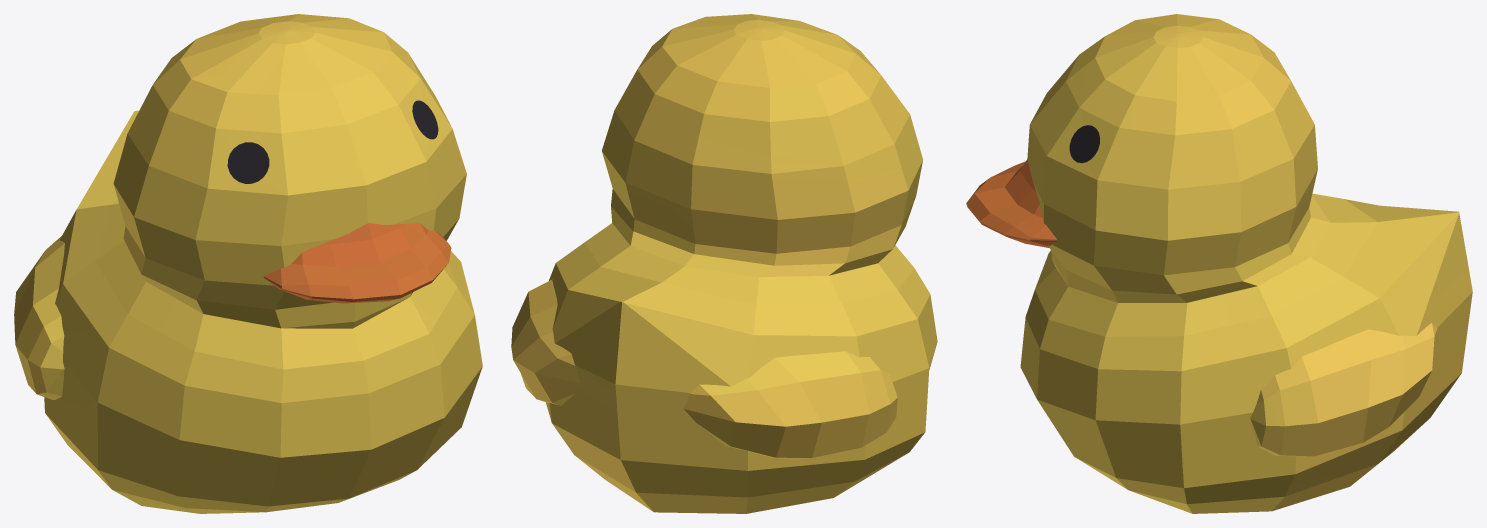
Rendered from rubber-duck.glb.
3 views of the same model, side by side, from view 1: azimuth 30°, elevation 25°; view 2: azimuth 150°, elevation 25°; view 3: azimuth 270°, elevation 25° (orthographic). The views are drawn at different scales.
Parts seen in each view (by area): view 1: Rubber_duck; view 2: Rubber_duck; view 3: Rubber_duck.
Part boxes in pixels (x1,y1,x2,y2): Rubber_duck: (14, 14, 482, 513); Rubber_duck: (511, 14, 937, 513); Rubber_duck: (966, 14, 1472, 513).
Bounding box in the file's own units: 0.0967 × 0.1025 × 0.113.
Materials: 1 (1 with a texture image).
